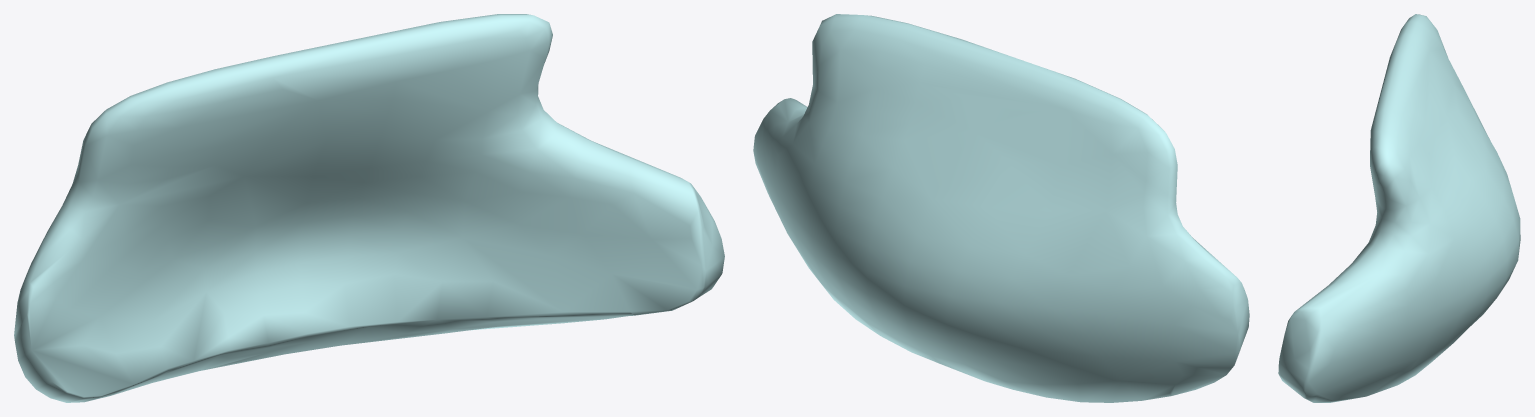
File: RathesPouch.fbx
3 renders of one model, left to right at view 1: azimuth 30°, elevation 25°; view 2: azimuth 150°, elevation 25°; view 3: azimuth 270°, elevation 25°, orthographic. The views are drawn at different scales.
Visible parts, largest first — view 1: Rathke_s_pouch; view 2: Rathke_s_pouch; view 3: Rathke_s_pouch.
Part boxes in pixels (bbox=[...]): Rathke_s_pouch: bbox=[14, 14, 724, 402]; Rathke_s_pouch: bbox=[753, 14, 1249, 402]; Rathke_s_pouch: bbox=[1278, 14, 1520, 402].
Bounding box in the file's own units: 5.39 × 2.75 × 2.37.
